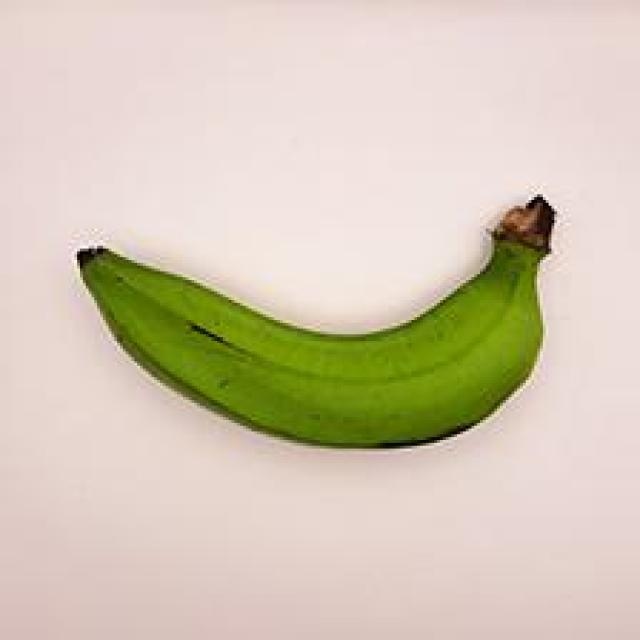Raw: (55, 173, 588, 475)
